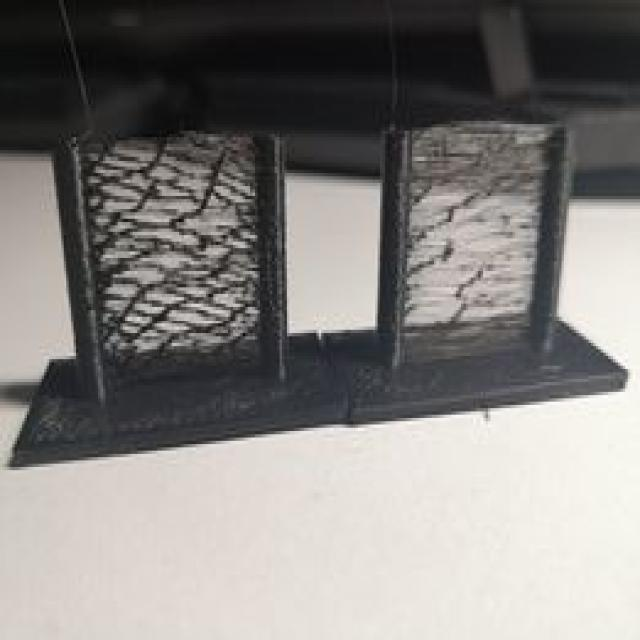stringing: (81, 138, 268, 327), (407, 137, 552, 319)
